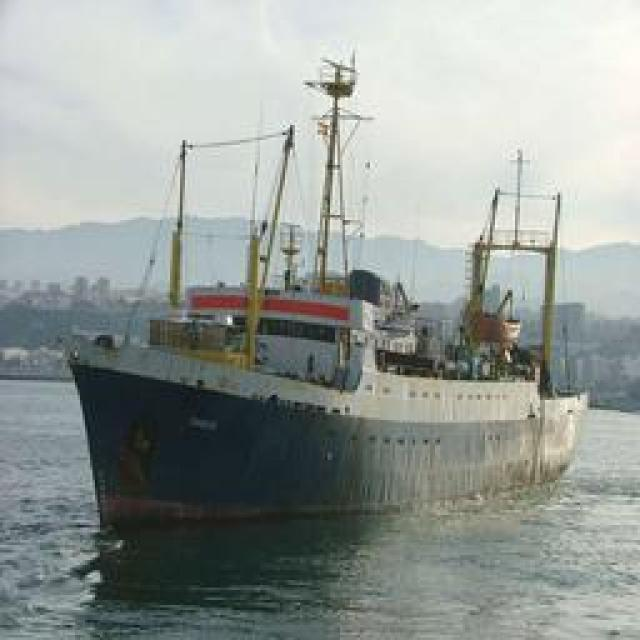CIV_Ship: (51, 50, 596, 525)
